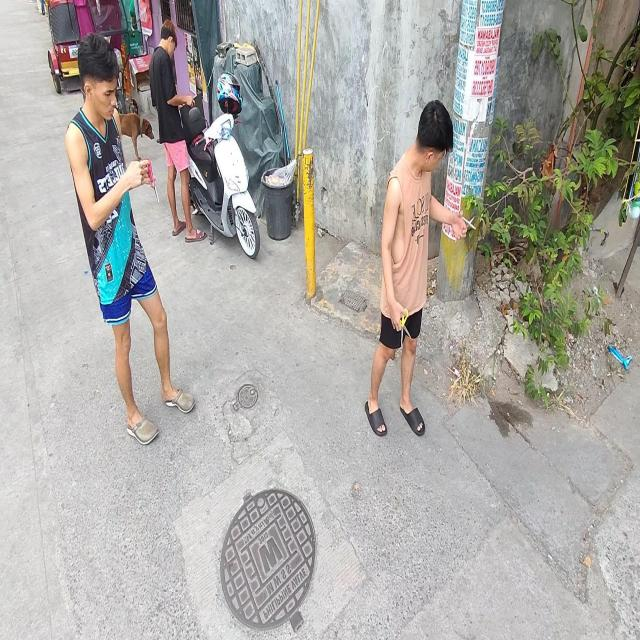scissor: (395, 308, 411, 348), (146, 157, 159, 205), (459, 210, 476, 239)
